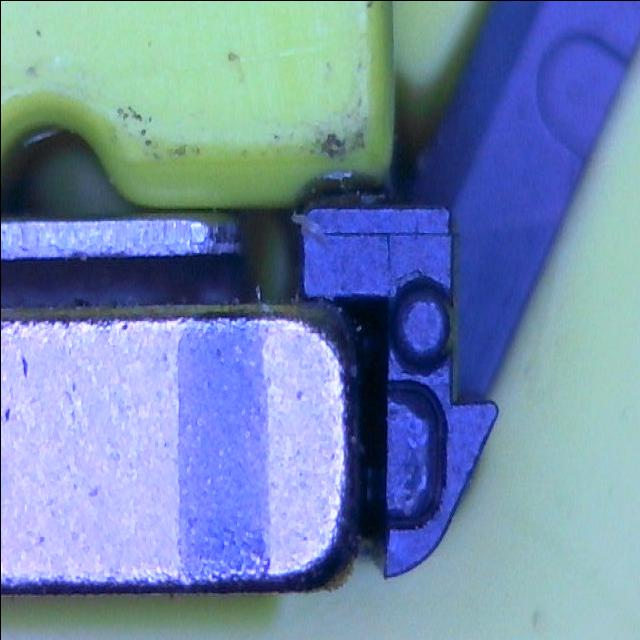lacking: (380, 377, 446, 532)
